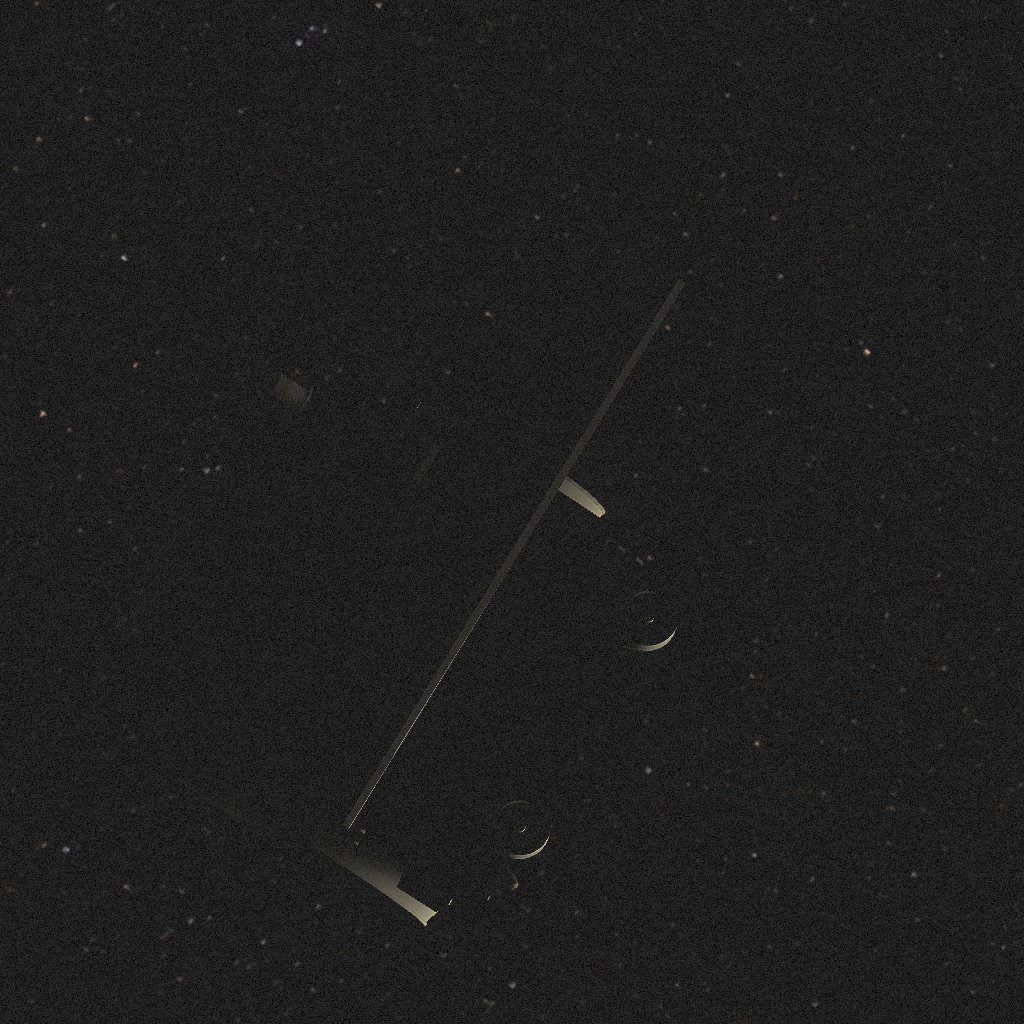proba_3_csc: (102, 274, 685, 927)
